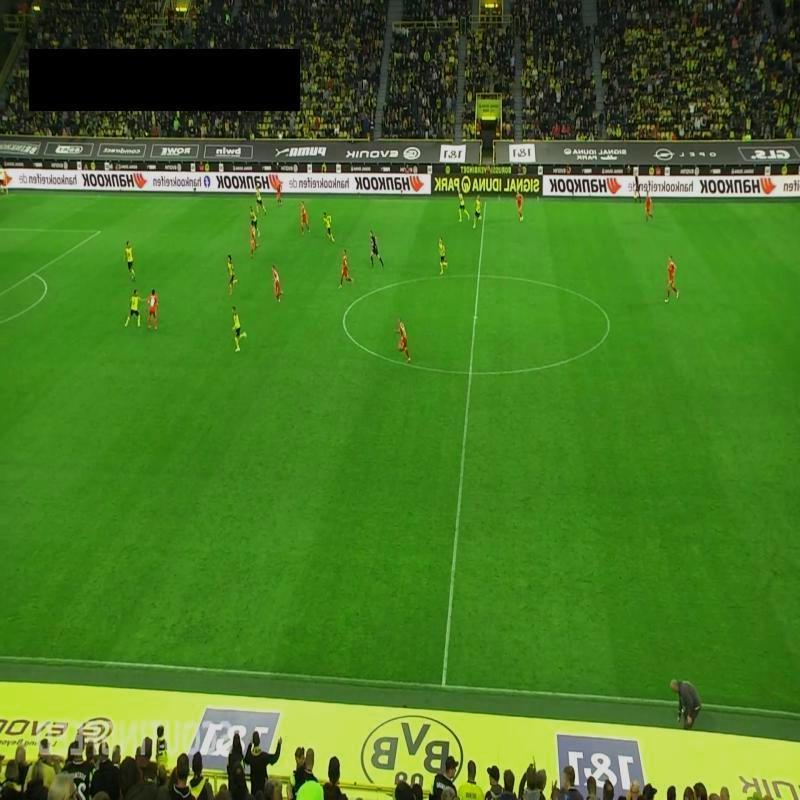1: (1, 188, 15, 202)
10: (23, 264, 43, 284)
13: (477, 192, 492, 206)
14: (470, 268, 488, 285)
15: (462, 364, 479, 381)
16: (432, 675, 454, 699)
9: (92, 224, 108, 240)
c: (334, 306, 354, 328), (602, 316, 616, 332)
